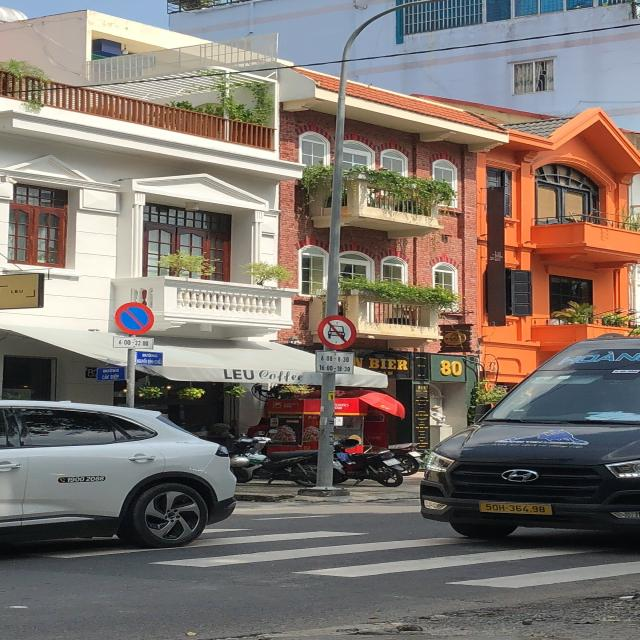Bien bao cam do xe: (113, 301, 161, 337)
Bien bao cam xe oto: (312, 314, 363, 349)
